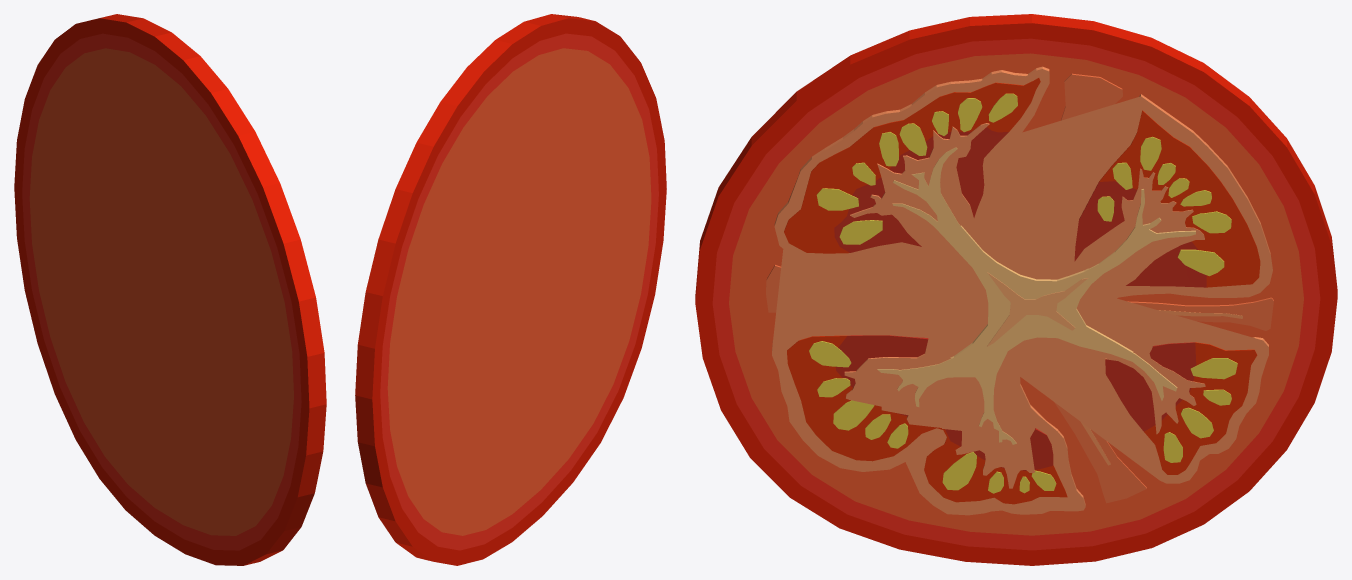
File: tomato_cut.fbx
The picture shows the model from 3 angles, left to right: view 1: azimuth 30°, elevation 25°; view 2: azimuth 150°, elevation 25°; view 3: azimuth 270°, elevation 25°; orthographic projection. The views are drawn at different scales.
Visible parts, largest first — view 1: Plan.005; view 2: Plan.005; view 3: Plan.005.
Boxes of the visible parts, x1,y1,x2,y2 form: Plan.005: [14, 14, 326, 565]; Plan.005: [355, 14, 666, 565]; Plan.005: [695, 14, 1337, 565].
Bounding box in the file's own units: 8.58 × 161 × 173.
